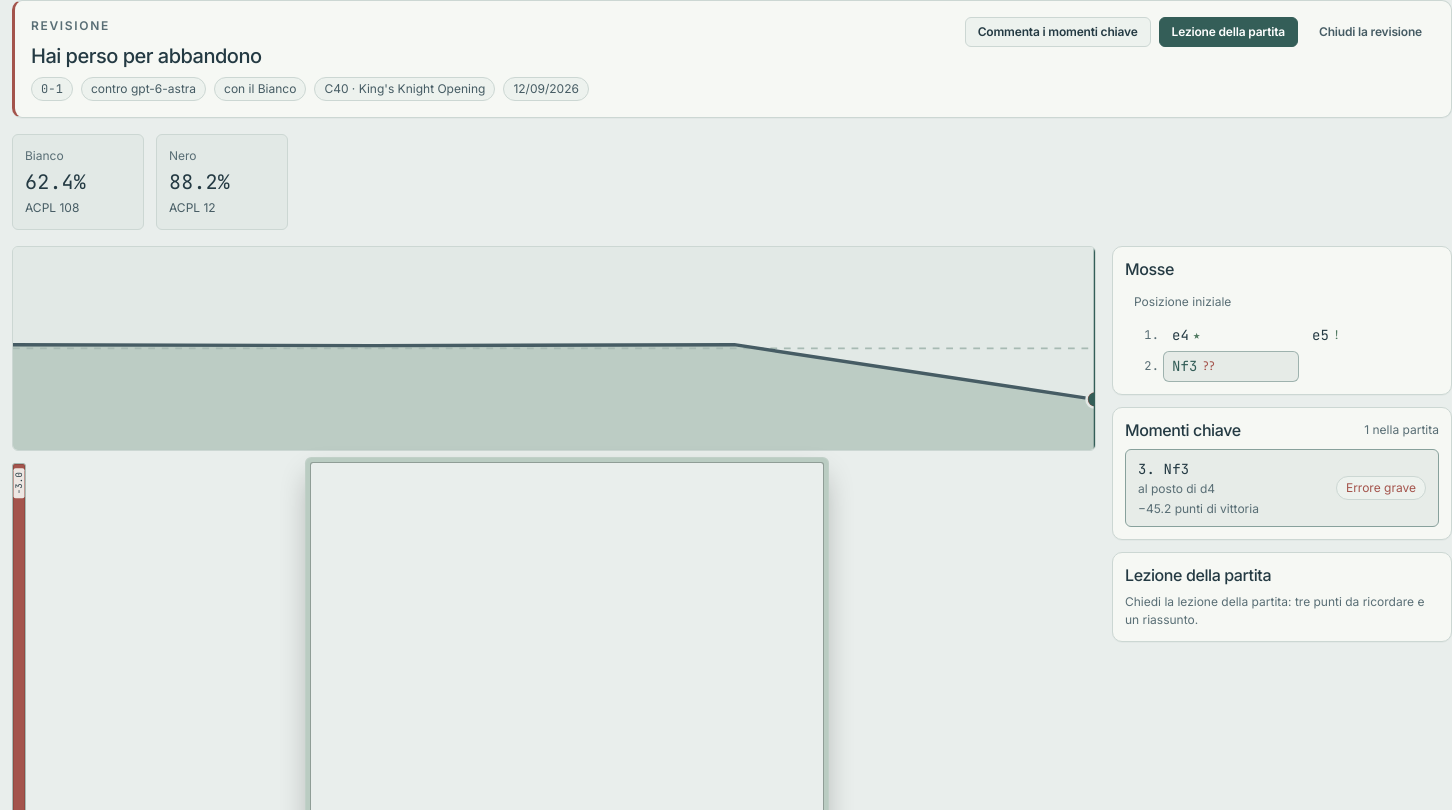
Scenario: ReviewScreen › shows a failed review turn without losing the screen
Check: the text "62.4%" is shown, box x1=25 y1=169 x2=86 y2=195
Click the button "Lezione della partita" at (1228, 32), box x1=1159 y1=17 x2=1298 y2=47
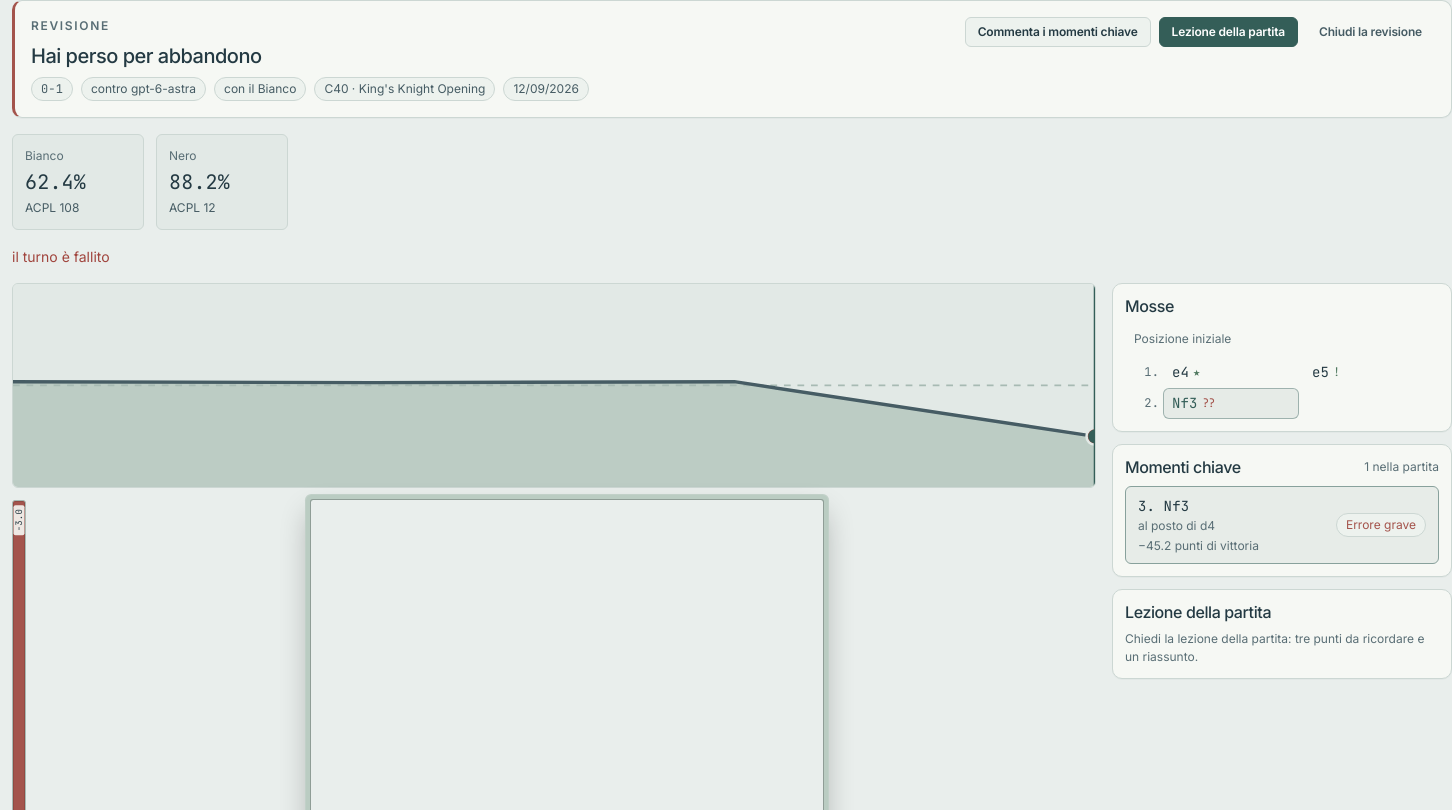
Check: the text "62.4%" is shown, box x1=25 y1=169 x2=86 y2=195
Check: the message reads "il turno è fallito", box x1=12 y1=248 x2=110 y2=265
